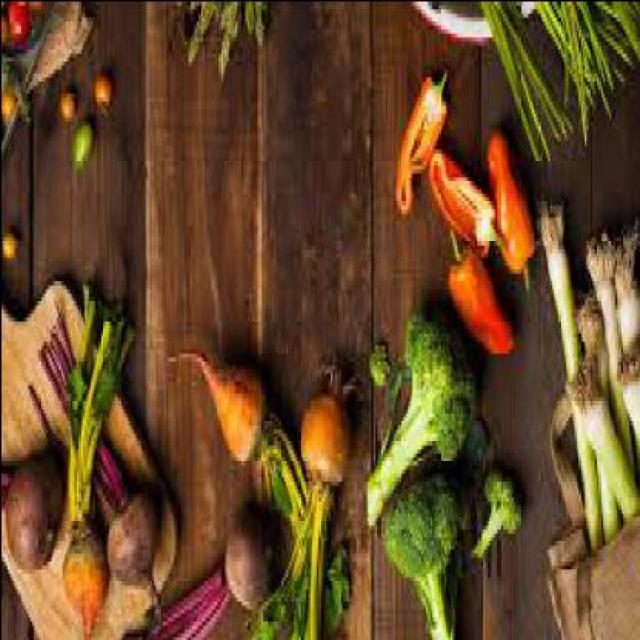BIODEGRADABLE: (360, 308, 477, 532), (536, 204, 598, 551), (252, 424, 348, 631), (36, 312, 130, 512), (62, 288, 130, 540), (243, 483, 342, 639), (377, 472, 468, 638), (477, 4, 569, 164), (162, 352, 261, 472), (532, 4, 612, 151), (560, 380, 638, 525), (573, 300, 618, 540), (97, 492, 161, 638), (483, 128, 532, 300), (424, 155, 502, 260), (583, 244, 617, 484), (445, 240, 512, 360), (389, 72, 443, 216), (295, 360, 353, 492), (2, 452, 60, 576), (122, 572, 230, 638), (181, 4, 264, 88), (222, 512, 272, 620), (59, 532, 108, 638), (619, 228, 638, 472), (467, 471, 516, 564), (593, 4, 638, 81), (26, 388, 65, 464), (616, 356, 638, 469), (2, 72, 28, 132), (66, 128, 92, 184), (457, 424, 483, 476), (4, 5, 27, 48), (89, 72, 108, 120), (386, 369, 405, 416), (54, 88, 78, 124), (368, 348, 386, 384), (0, 464, 11, 511), (1, 230, 14, 264), (0, 92, 11, 128), (27, 4, 41, 28), (2, 11, 6, 49)
